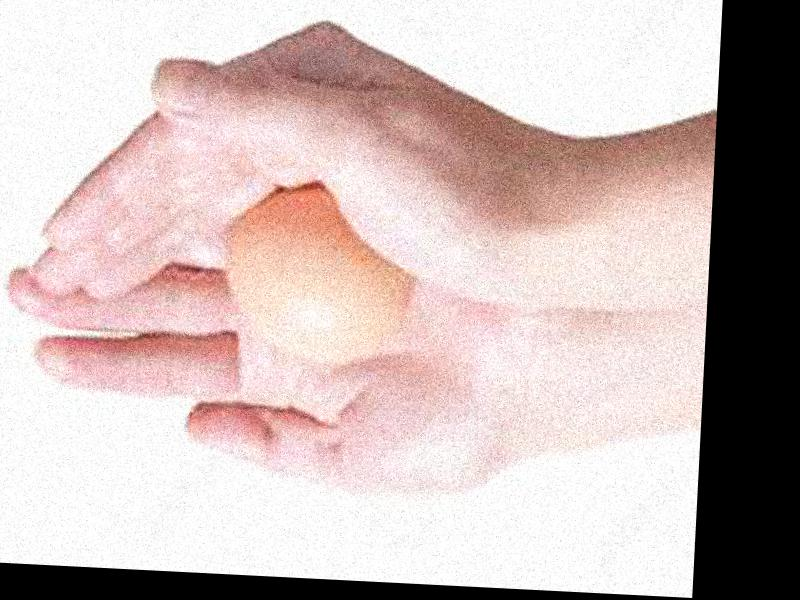Eggs: (223, 186, 406, 359)
